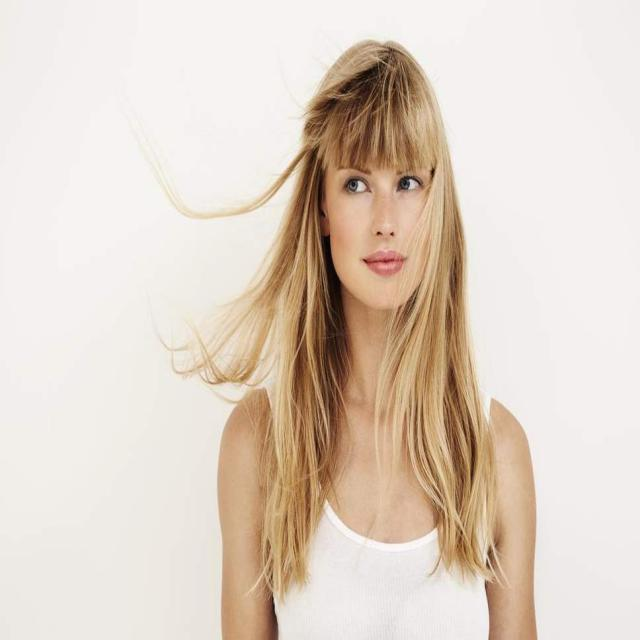human: (208, 28, 548, 640)
